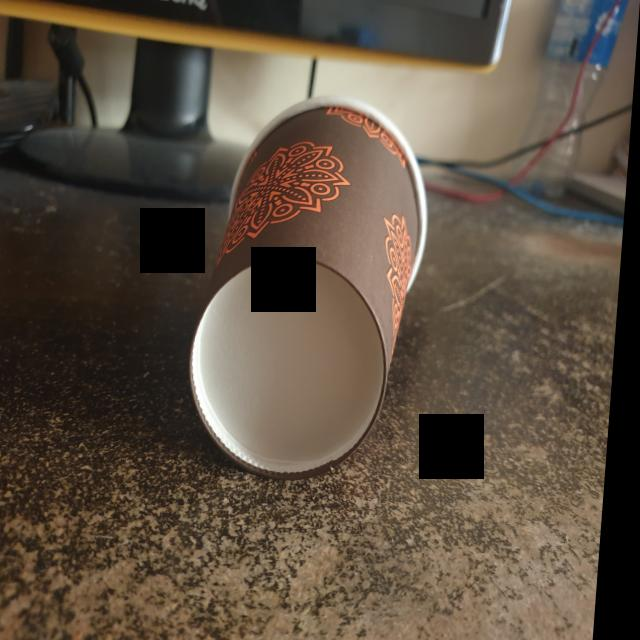cups: (179, 90, 448, 487)
